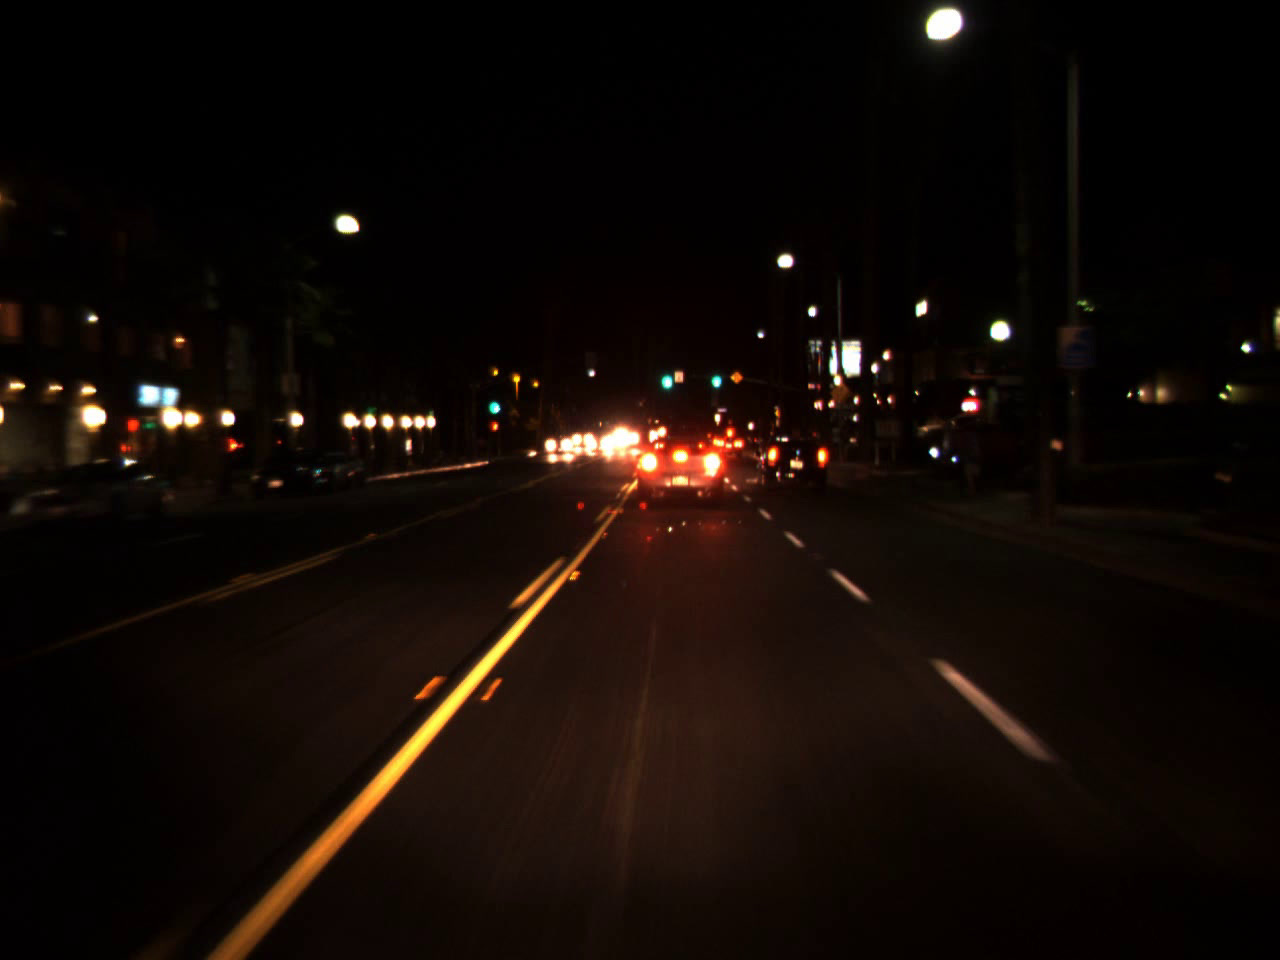go: (657, 358, 675, 394), (485, 388, 501, 418), (708, 365, 722, 389)
